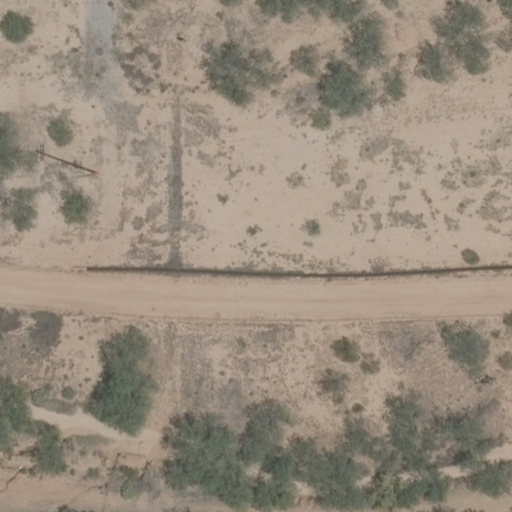DT: (34, 150, 102, 176)
